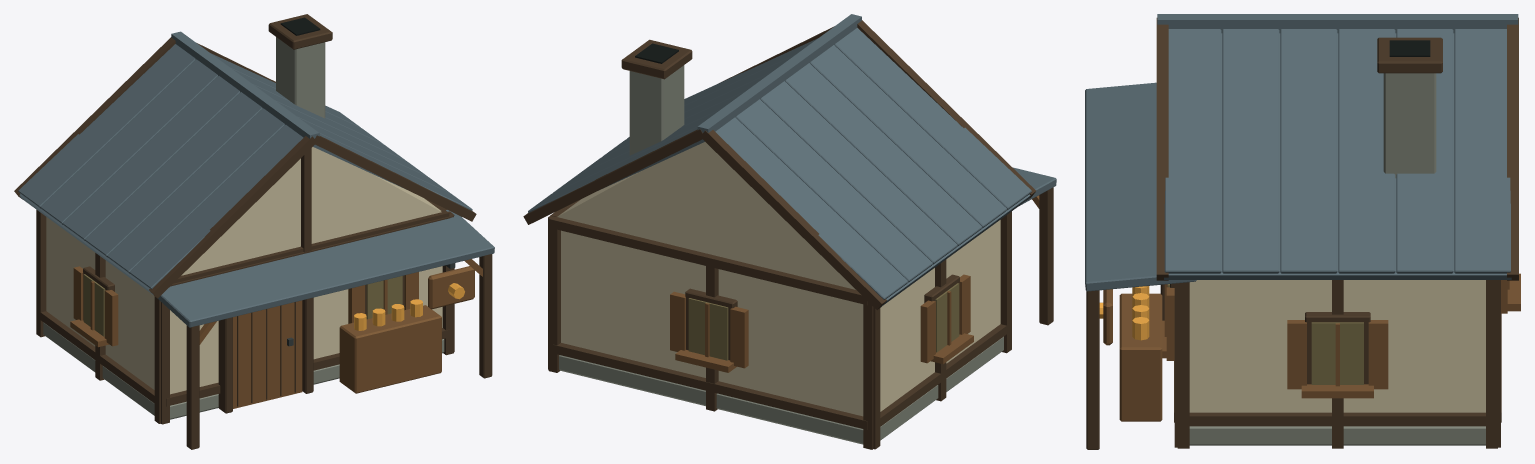
Rendered from item_shop.glb.
3 views of the same model, side by side, from view 1: azimuth 30°, elevation 25°; view 2: azimuth 150°, elevation 25°; view 3: azimuth 270°, elevation 25° (orthographic). The views are drawn at different scales.
Parts seen in each view (by area): view 1: item_shop; view 2: item_shop; view 3: item_shop.
Part boxes in pixels (x1,y1,x2,y2): item_shop: [14, 14, 494, 449]; item_shop: [523, 14, 1056, 449]; item_shop: [1085, 14, 1520, 449].
Bounding box in the file's own units: 7.4 × 6.05 × 6.64.
